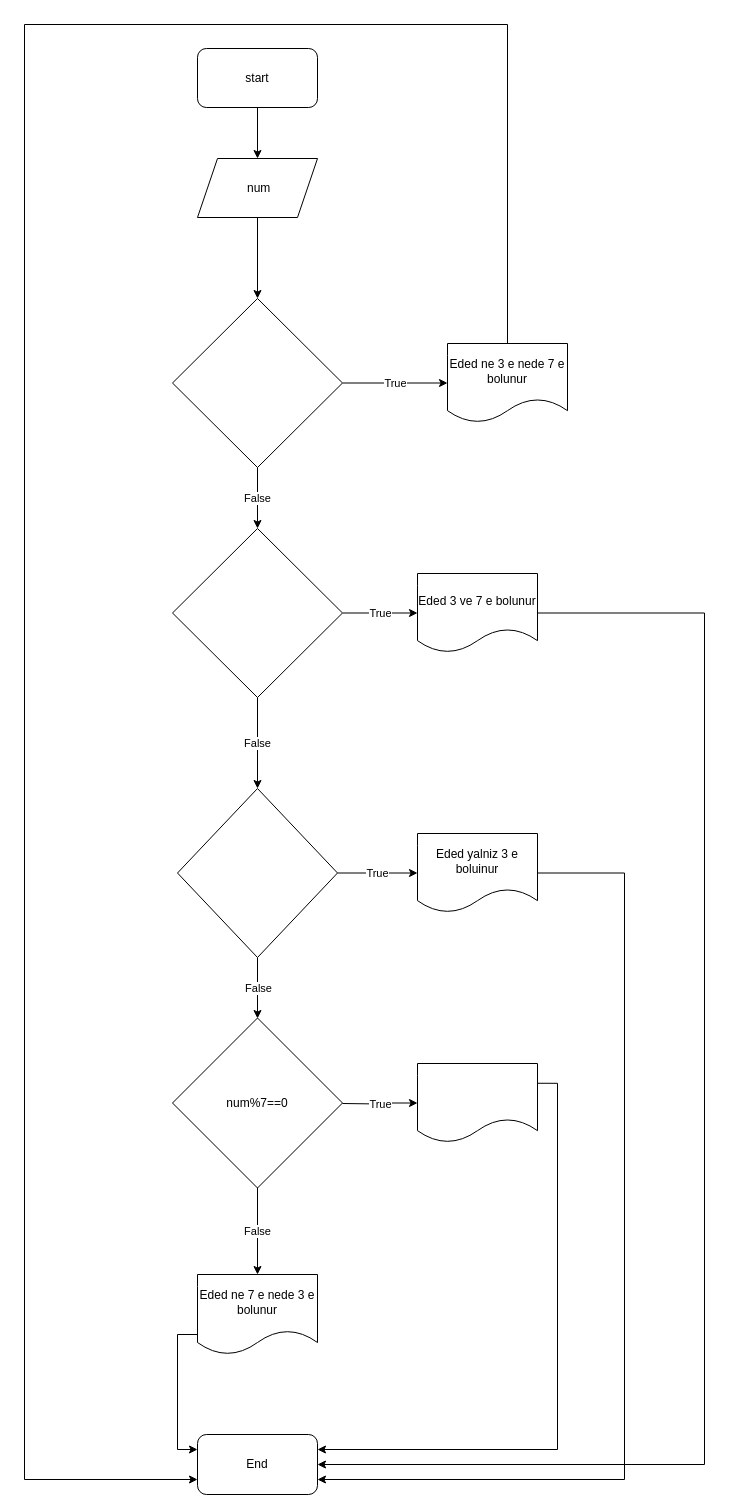
Some shapes in this 730 by 1512 pixel diagram are drawn without their labels. Here are the shapes that lost their labels. From the top down, the box of each, then its label:
(172, 298, 342, 468): num == 0
(172, 528, 342, 698): (num%3==0) and (num%7==0)
(176, 788, 338, 958): num%3==0
(416, 1062, 538, 1142): Eded yalniz 7 e bolunur
